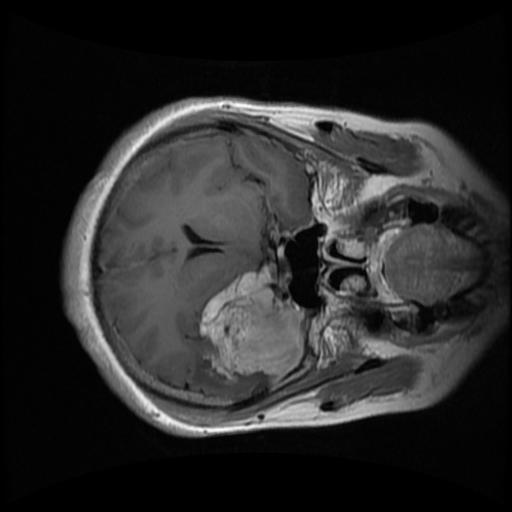meningioma: (198, 264, 305, 384)
